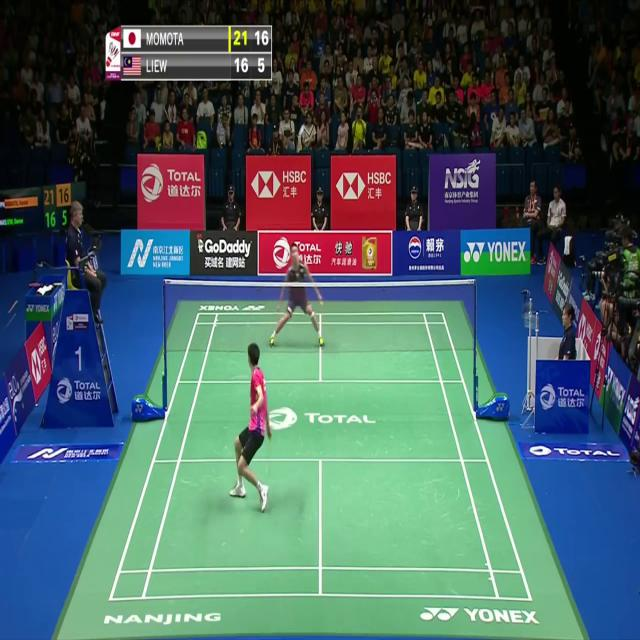Shuttlecock: (298, 124, 304, 136)
